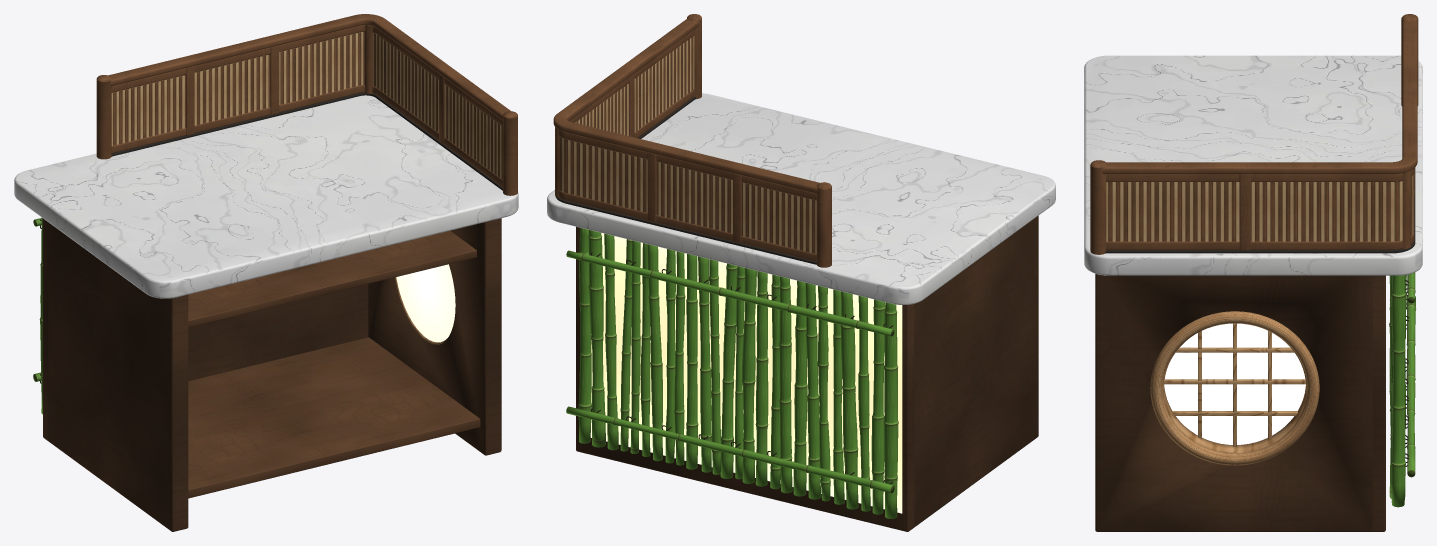
Rendered from tillcounter.glb.
The picture shows the model from 3 angles, left to right: view 1: azimuth 30°, elevation 25°; view 2: azimuth 150°, elevation 25°; view 3: azimuth 270°, elevation 25°; orthographic projection. The views are drawn at different scales.
Parts seen in each view (by area): view 1: TillMarble, TillEnd-1, TillShelfLow, TillLattice, TillEnd1, TillFace, TillShelfHigh, TillCap, TillWindowPaper, TillRailLow, TillRailTop, TillShoe (+5 smaller); view 2: TillMarble, TillEnd-1, TillLattice, TillBambooGlow, TillFace, TillCap, TillBamboo0, TillBambooRail69, TillBamboo3, TillBamboo24, TillBambooRail17, TillRailTop (+29 smaller); view 3: TillEnd1, TillMarble, TillLattice, TillWindowPaper, TillCap, TillWindowRing, TillFace, TillBamboo25, TillRailLow, TillRailTop, TillBambooRail17, TillWindowSleeve (+9 smaller).
Part boxes in pixels (x1,y1,x2,y2): TillMarble: (14,95,518,298); TillEnd-1: (48,222,188,531); TillShelfLow: (188,337,480,498); TillLattice: (111,31,502,179); TillEnd1: (368,218,501,455); TillFace: (43,218,368,440); TillShelfHigh: (188,231,476,327); TillCap: (108,14,510,120); TillWindowPaper: (396,264,455,342); TillRailLow: (111,85,502,186); TillRailTop: (111,25,502,126); TillShoe: (111,92,502,190); TillMarble: (547,93,1055,304); TillEnd-1: (914,216,1038,527); TillLattice: (559,36,816,253); TillBambooGlow: (590,233,902,513); TillFace: (576,226,914,531); TillCap: (553,19,819,193); TillBamboo0: (883,302,898,518); TillBambooRail69: (566,250,894,336); TillBamboo3: (840,291,858,509); TillBamboo24: (588,230,605,447); TillBambooRail17: (566,406,894,493); TillRailTop: (559,29,816,200); TillEnd1: (1095,274,1372,531); TillMarble: (1084,55,1422,275); TillLattice: (1106,174,1413,241); TillWindowPaper: (1164,323,1305,444); TillCap: (1102,21,1417,174); TillWindowRing: (1150,311,1319,465); TillFace: (1359,275,1385,531); TillBamboo25: (1391,275,1405,507); TillRailLow: (1106,189,1414,249); TillRailTop: (1106,168,1414,181); TillBambooRail17: (1406,296,1415,477); TillWindowSleeve: (1163,331,1307,453).
Bounding box in the file's own units: 1.3 × 1.13 × 0.92.
17 materials, 14 textured.
